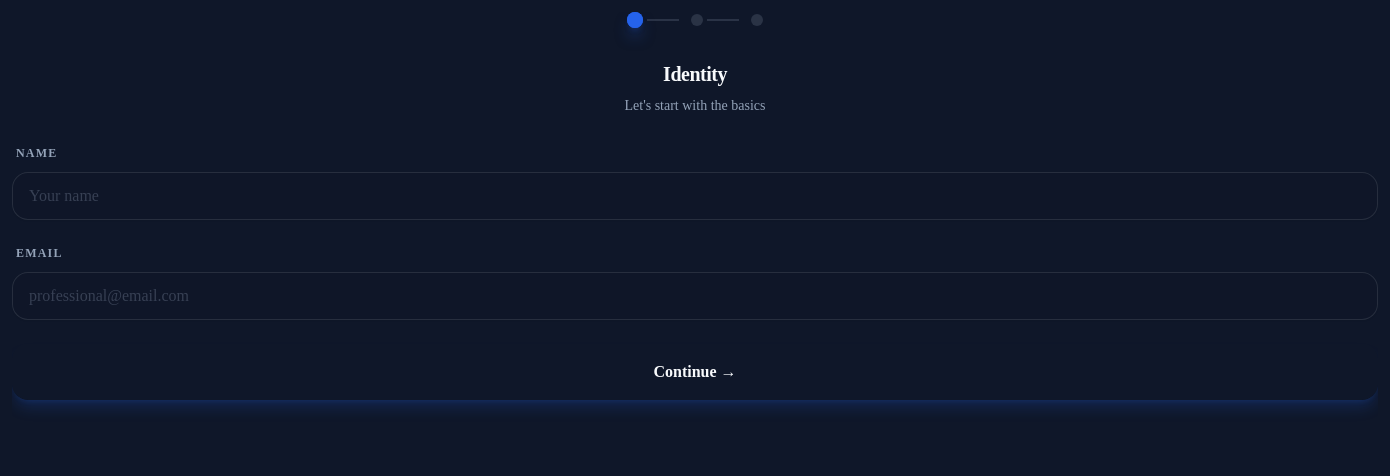
Waitlist submission — integration › validation path: submit step 1 empty → errors shown → correct → progress
Submit the form "Identity Let's start with the basics Name Email Continue →"
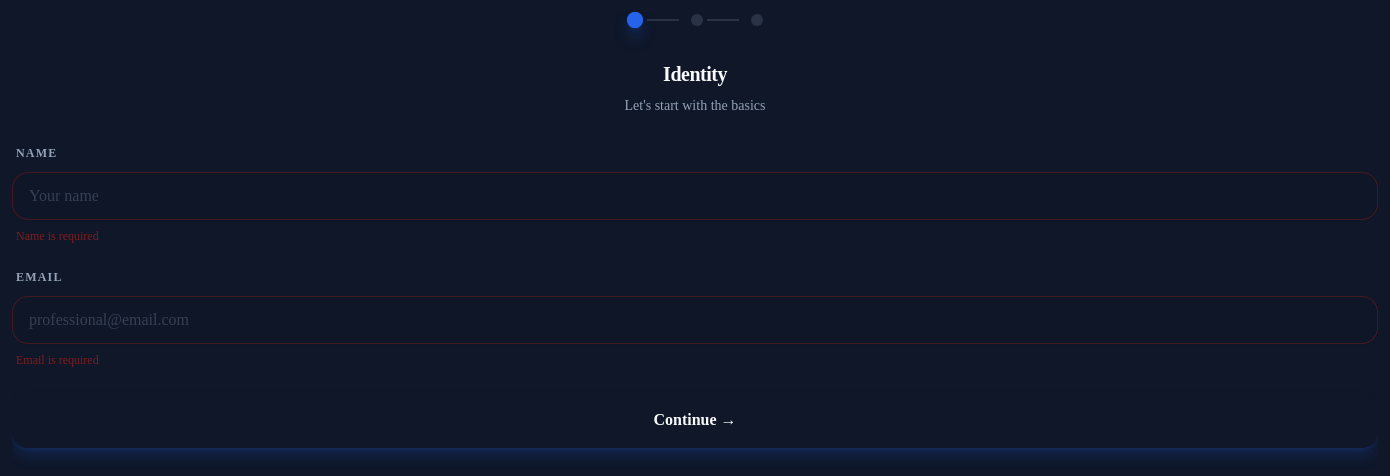
Expected: the text "Name is required" is shown, x1=16 y1=229 x2=99 y2=243
Expected: the text "Email is required" is shown, x1=16 y1=353 x2=99 y2=367
Type "Jane Doe" into the field with placeholder "Your name" at coordinates (695, 196), box x1=12 y1=172 x2=1378 y2=220
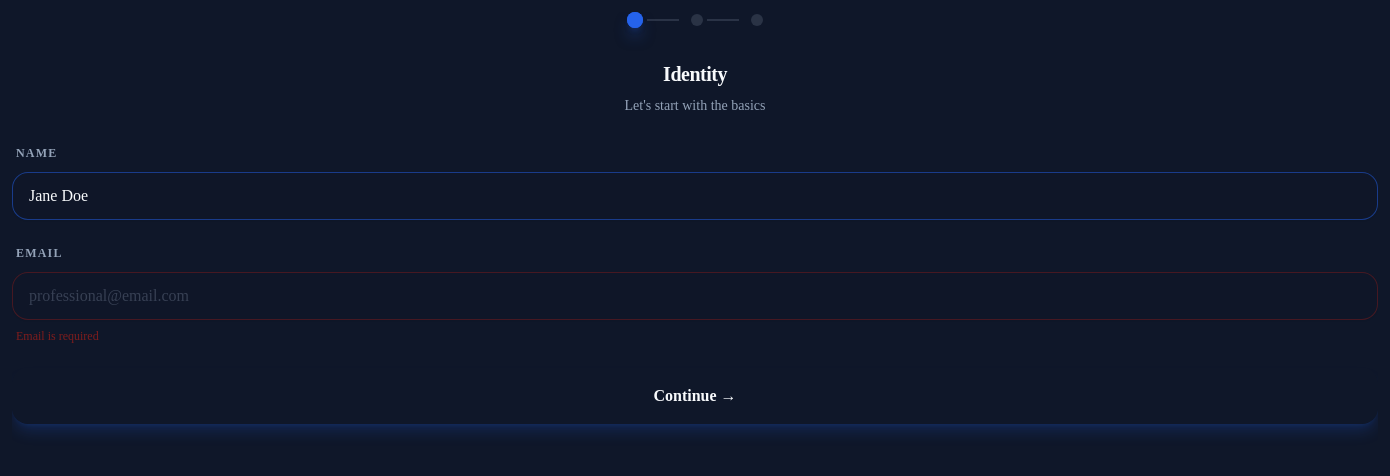
Type "jane@example.com" into the field with placeholder "professional@email.com" at coordinates (695, 296), box x1=12 y1=272 x2=1378 y2=320
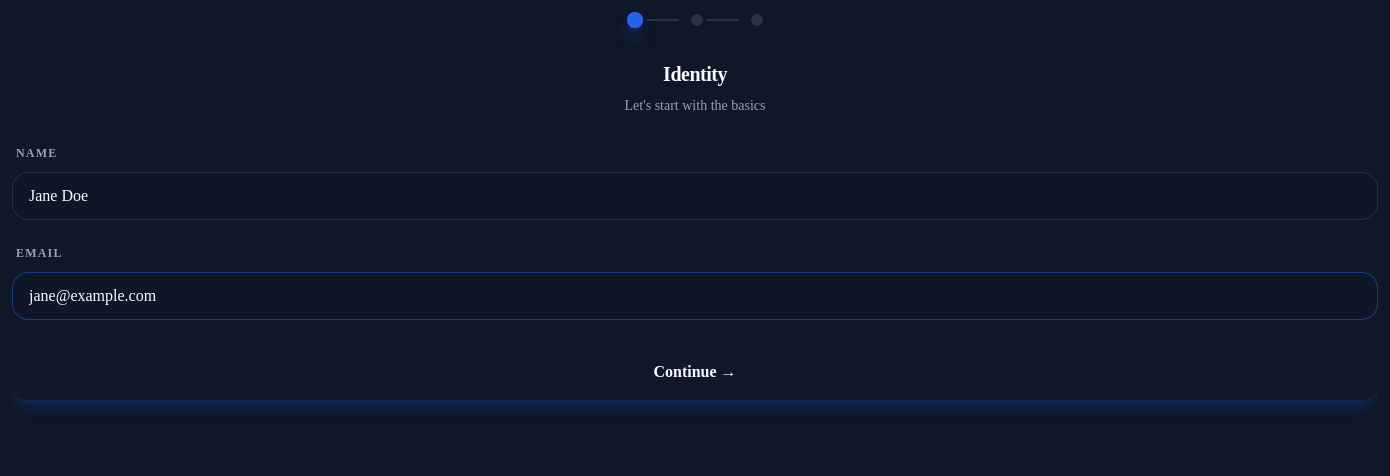
Submit the form "Identity Let's start with the basics Name Email Continue →"
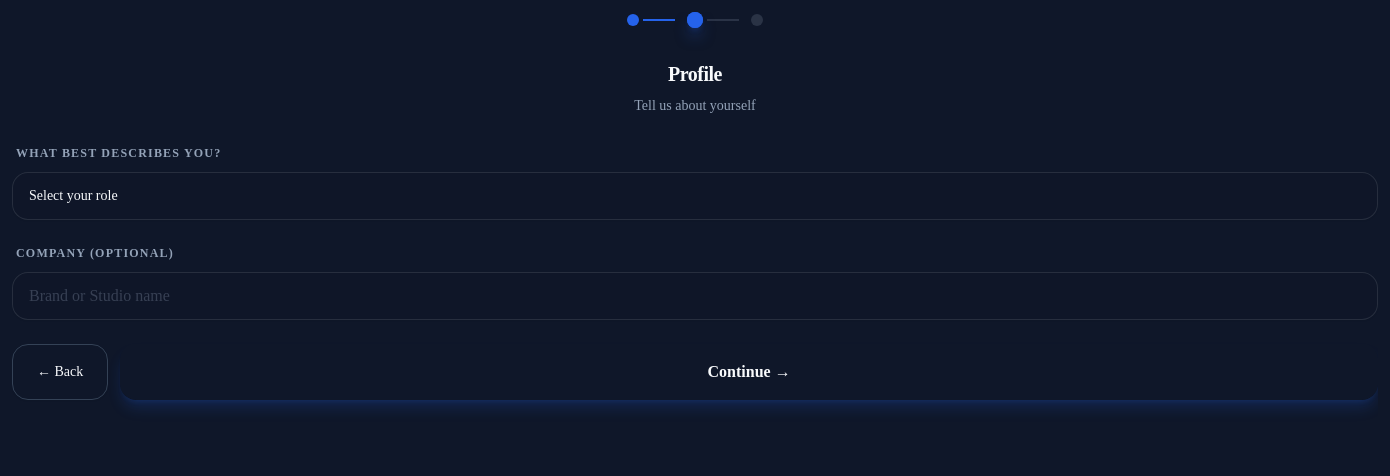
Expected: the heading "Profile" is shown, x1=668 y1=63 x2=722 y2=85
